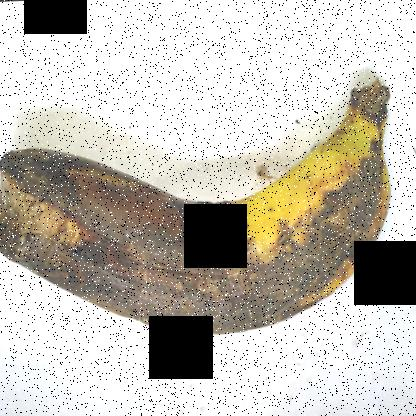rotten: (1, 59, 396, 357)
